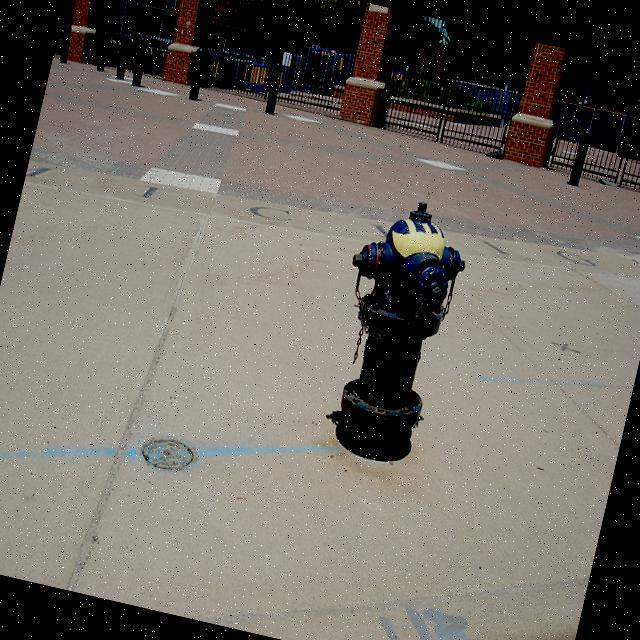fire_hydrant: (310, 189, 475, 467)
